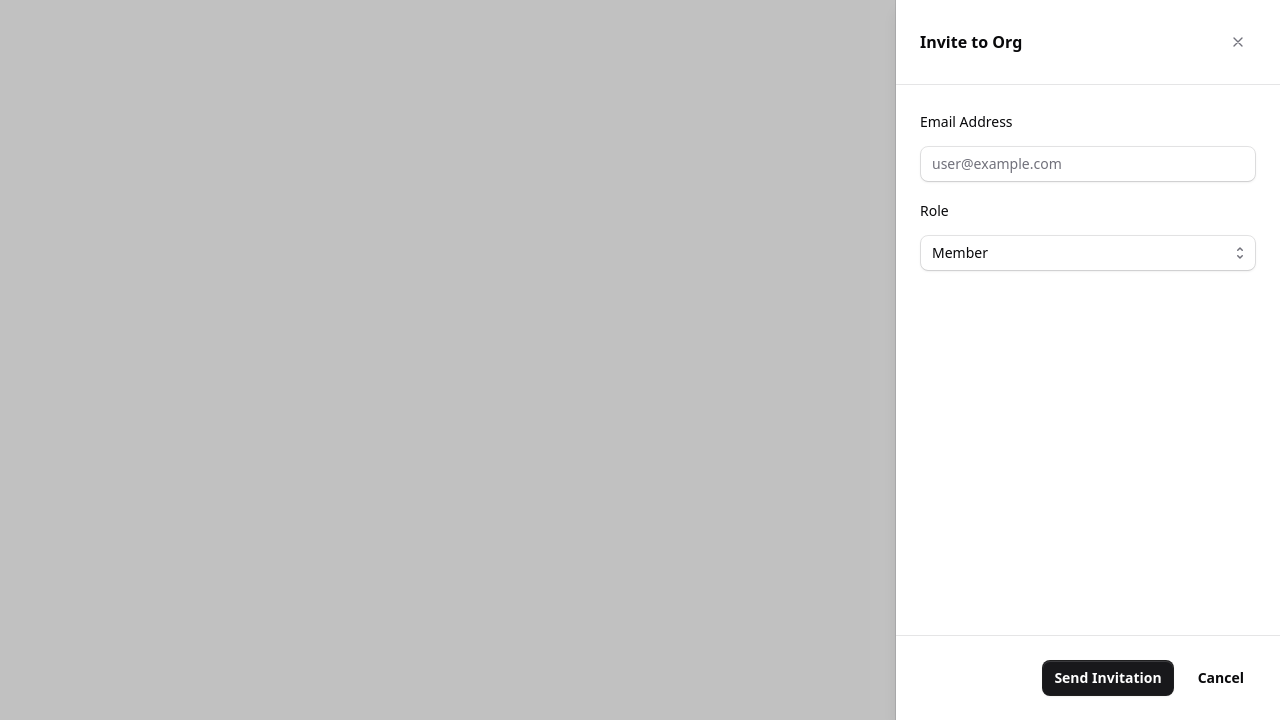
Test case: AddMemberDialog — invite flow › shows loading state while the invite is in-flight
Type "x@test.com" into the field labelled "Email Address".
click(1088, 164); type("x@test.com")  # box [920, 146, 1256, 182]
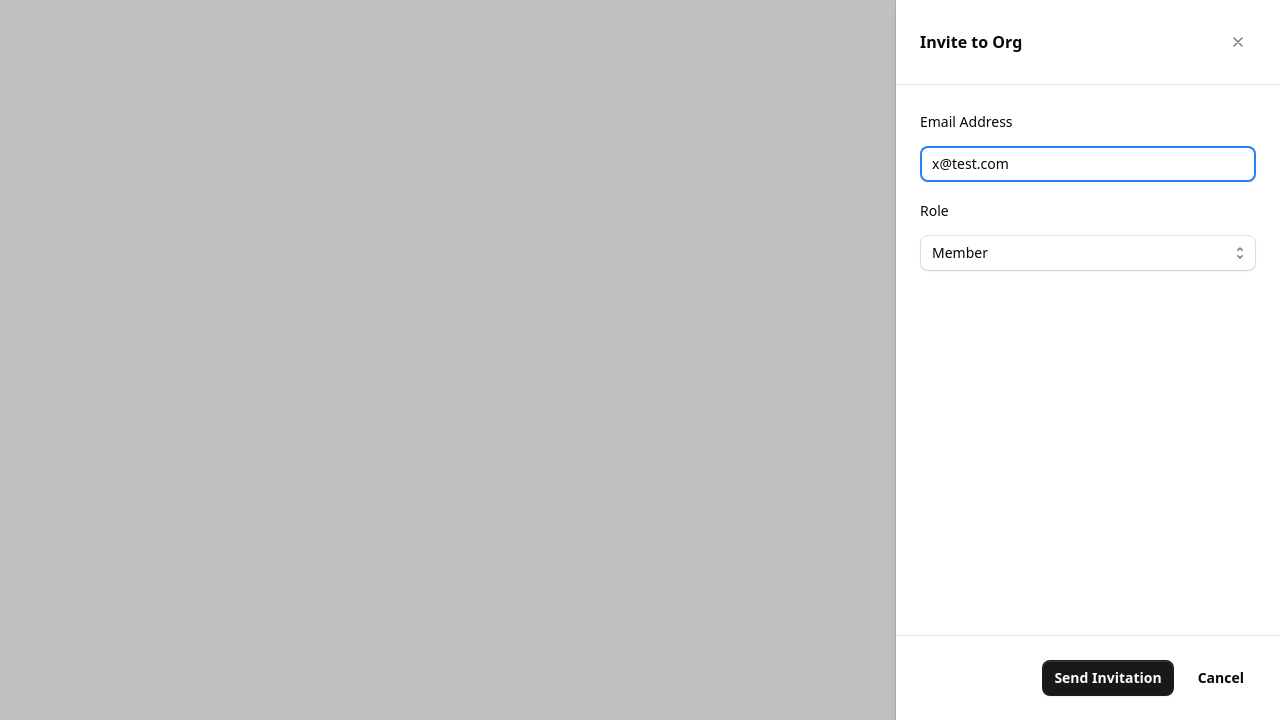
Click the button "Send Invitation".
click(1108, 678)  # box [1042, 660, 1174, 696]
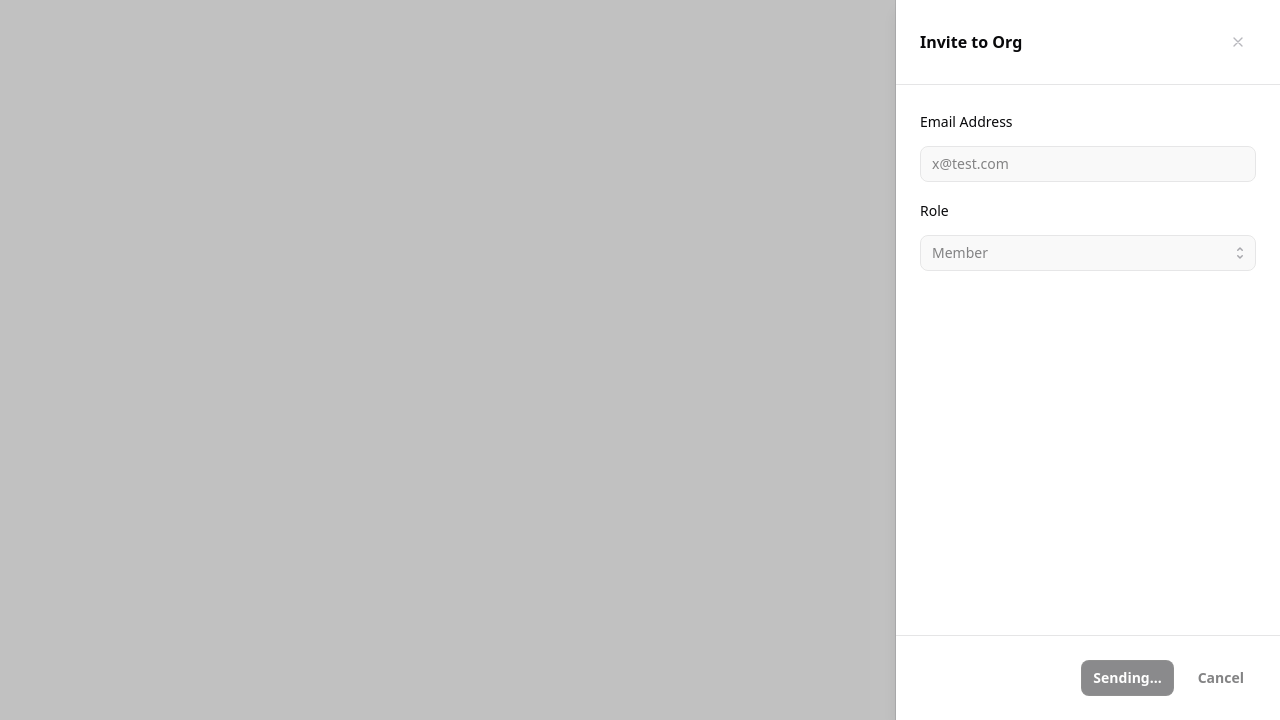
Result: the button "Sending..." is disabled at [1081, 660, 1174, 696]
